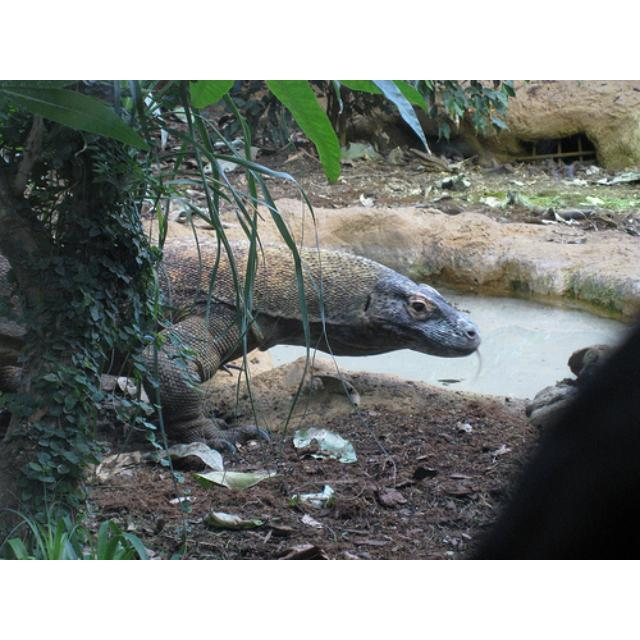KomodoDragon: (3, 234, 486, 455)
